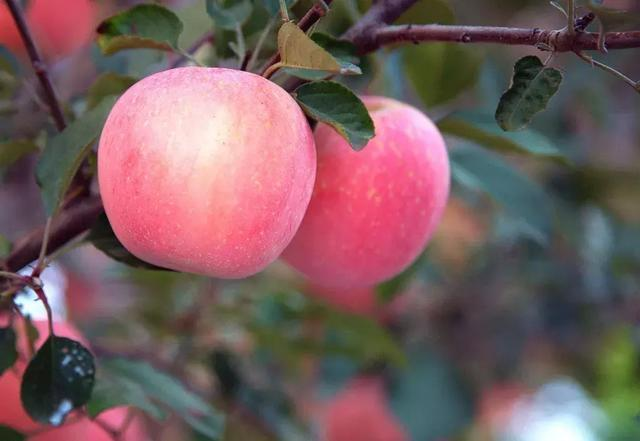apple: (98, 69, 321, 284), (296, 96, 465, 296)
